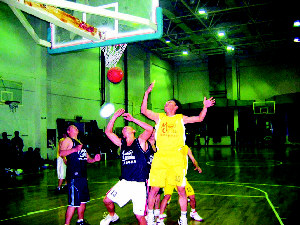ball: (107, 67, 124, 84)
